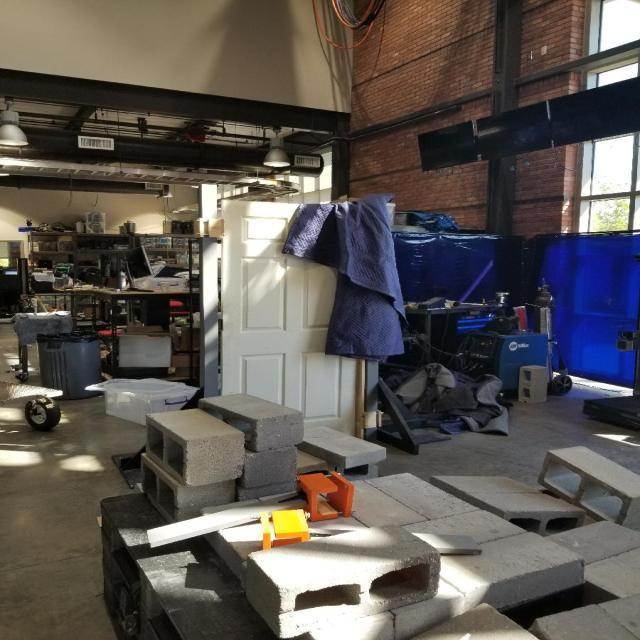door: (219, 198, 370, 464)
